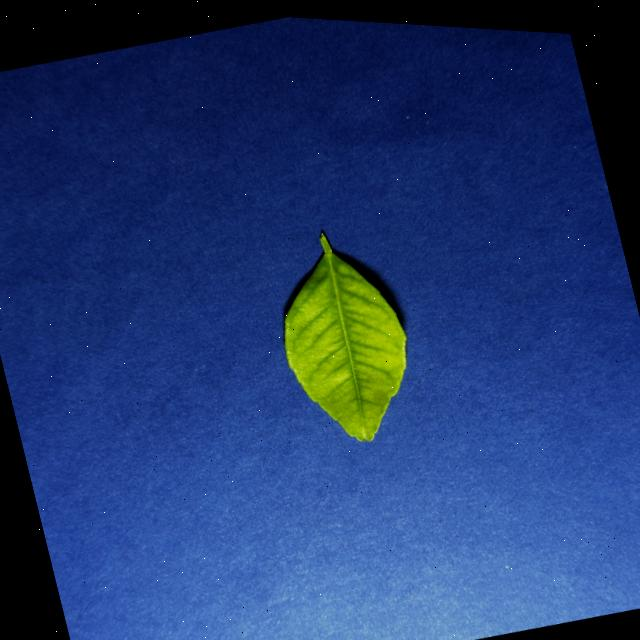greening: (283, 231, 405, 440)
